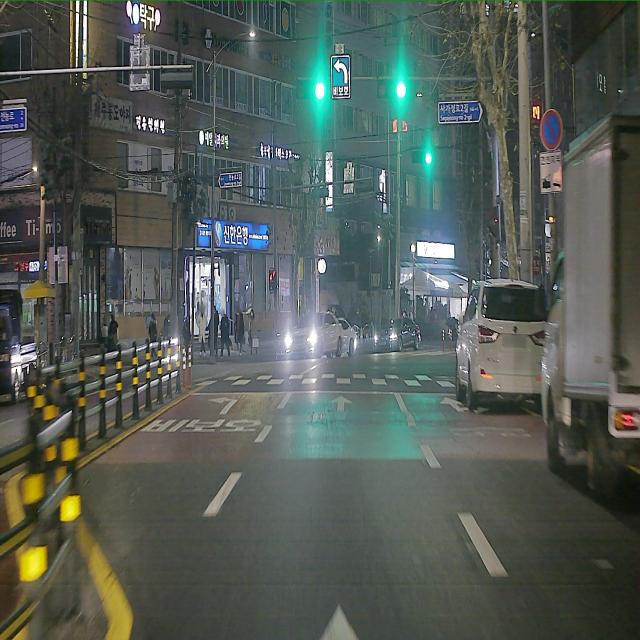Green Light: (314, 82, 325, 100), (396, 81, 406, 98)
